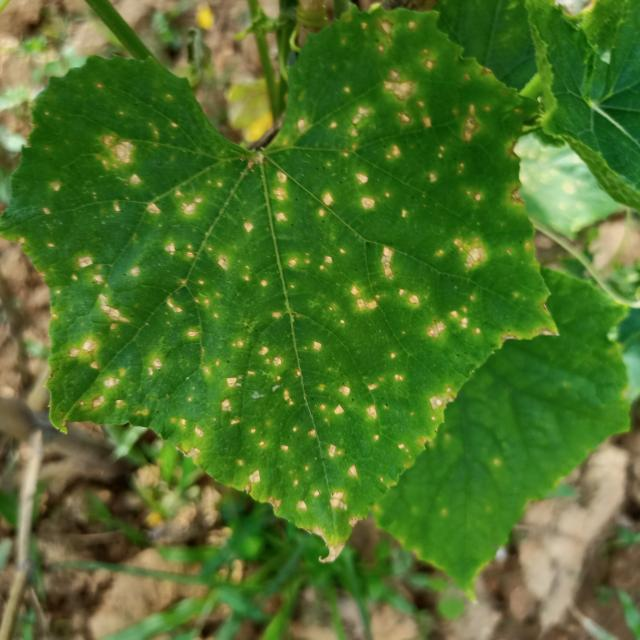disease_cucumber: (165, 232, 492, 518), (44, 112, 320, 390), (282, 19, 522, 311)
